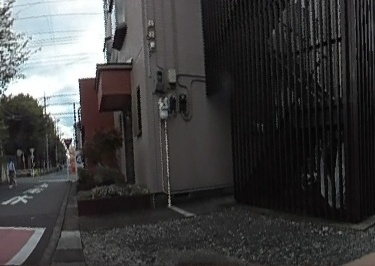person: (5, 156, 16, 185)
